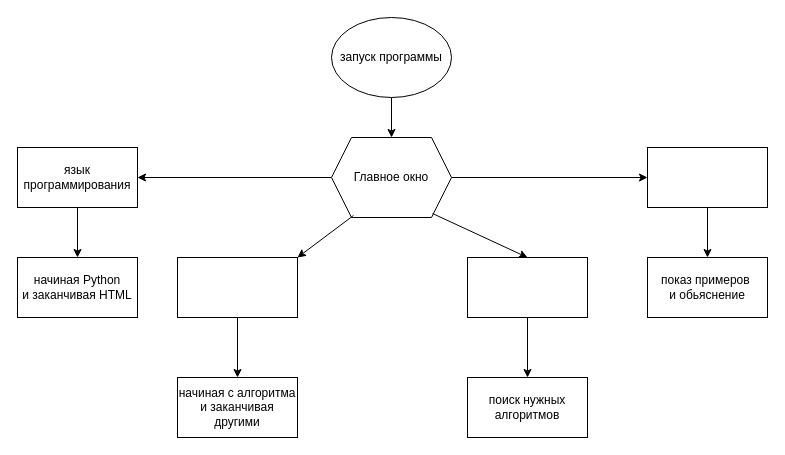
The diagram is 785 pixels wide and 455 high, and some of its shapes have lost their labels. Each missing label, with the centre of its shape:
"Категория" goes at point (237, 287).
"поиск" goes at point (527, 287).
"примеры и пояснения" goes at point (707, 177).
